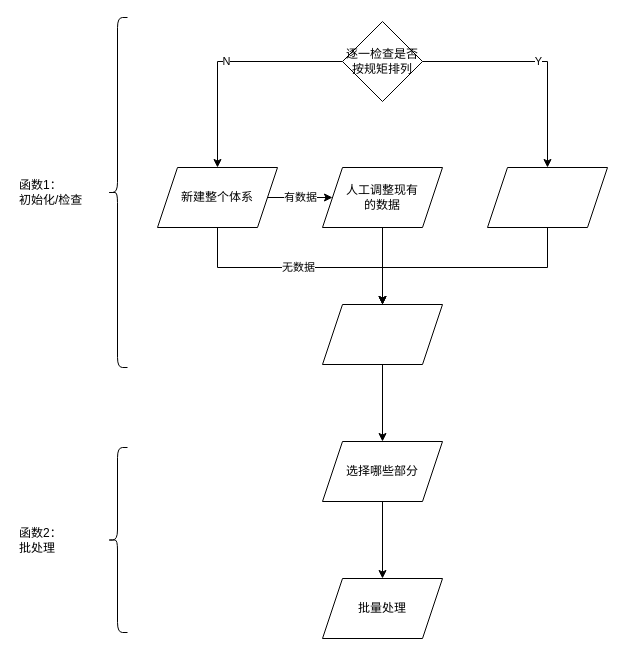
Image size: 625x656. Some labels were removed from this diagram. The shapes that lost their labels are listed below. From the top down, each one's centre as x and y in pixels, then its label:
the point at 547,197: 根据人工设置 补全文件夹, csv
the point at 382,334: 读取所有数据， 展示数据缺漏
